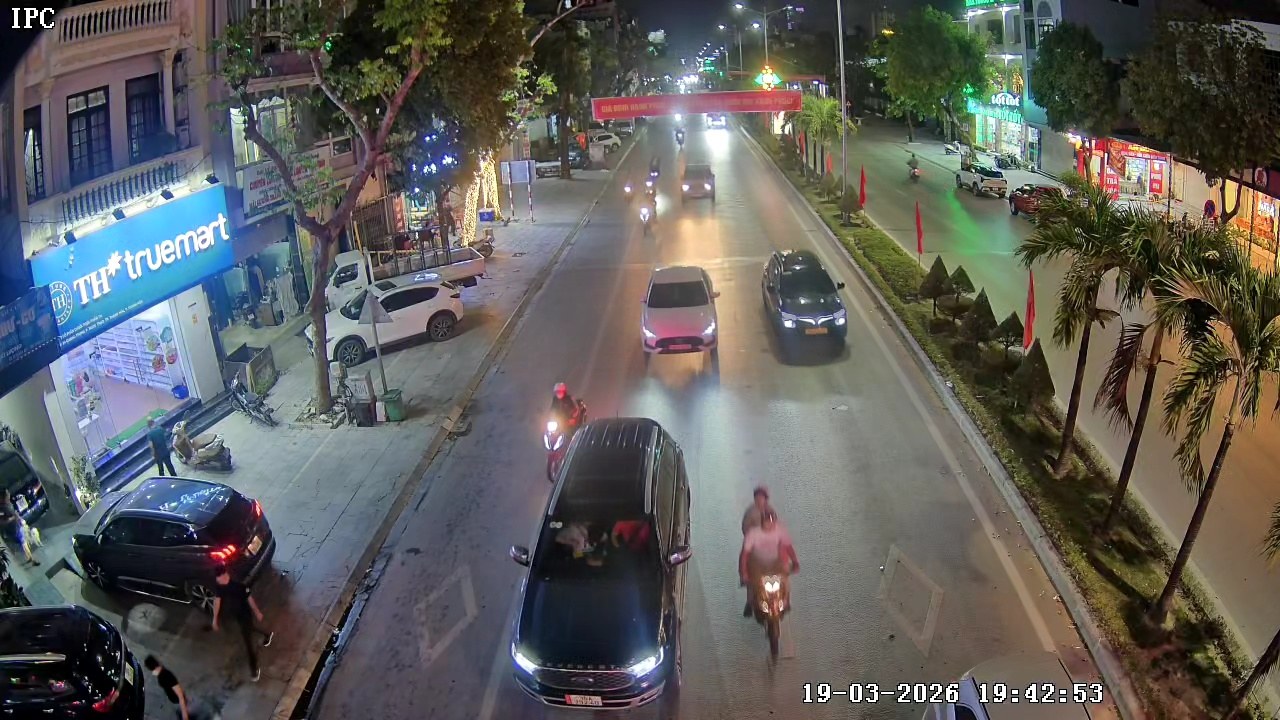car: (503, 414, 696, 719), (66, 475, 280, 604), (0, 603, 161, 719), (761, 247, 850, 360), (639, 263, 722, 378), (680, 159, 717, 201)
motorbike: (735, 484, 802, 668), (539, 379, 590, 481), (638, 198, 655, 234), (644, 164, 661, 197)
